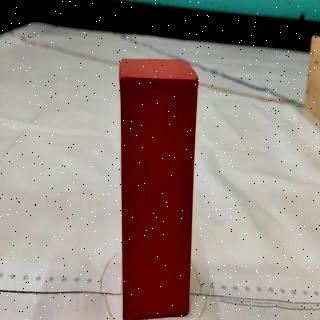redbox: (119, 56, 198, 320)
